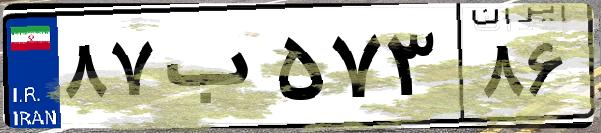3: (385, 28, 445, 110)
5: (270, 28, 330, 110)
6: (525, 38, 570, 115)
7: (330, 28, 385, 110), (110, 28, 158, 98)
8: (57, 26, 110, 100), (475, 38, 525, 113)
ب: (158, 20, 270, 120)
